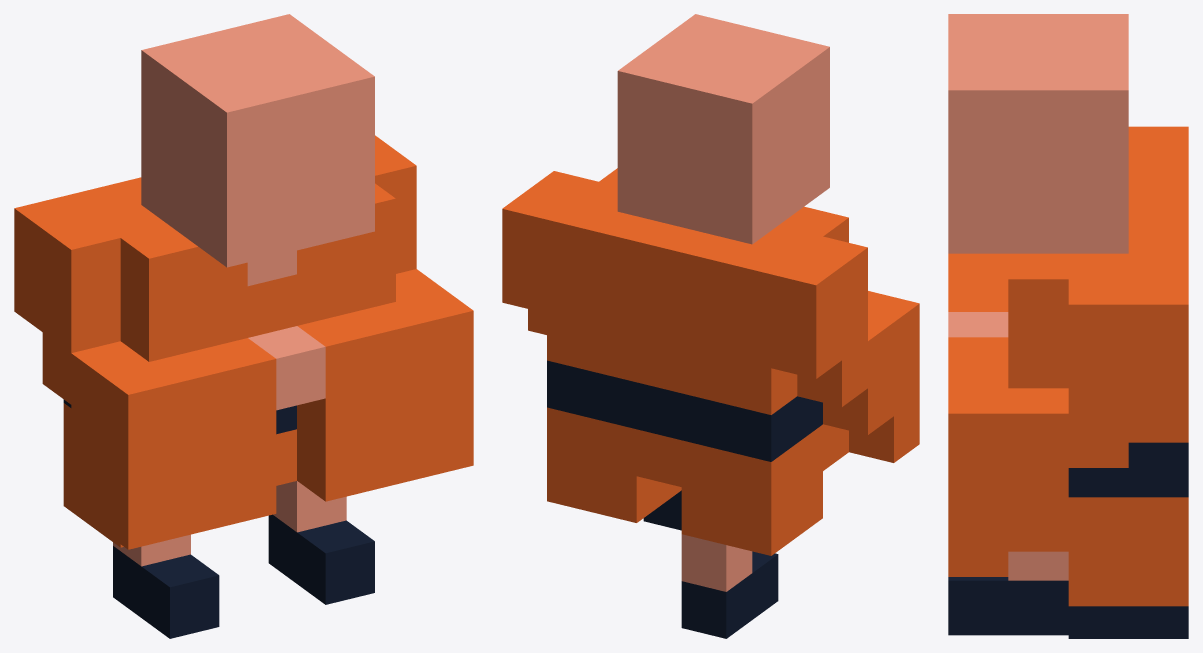
File: monk_walk_1.obj
The picture shows the model from 3 angles, left to right: view 1: azimuth 30°, elevation 25°; view 2: azimuth 150°, elevation 25°; view 3: azimuth 270°, elevation 25°; orthographic projection. The views are drawn at different scales.
Bounding box in the file's own units: 0.7 × 1.1 × 0.4.
Materials: 1 (1 with a texture image).
